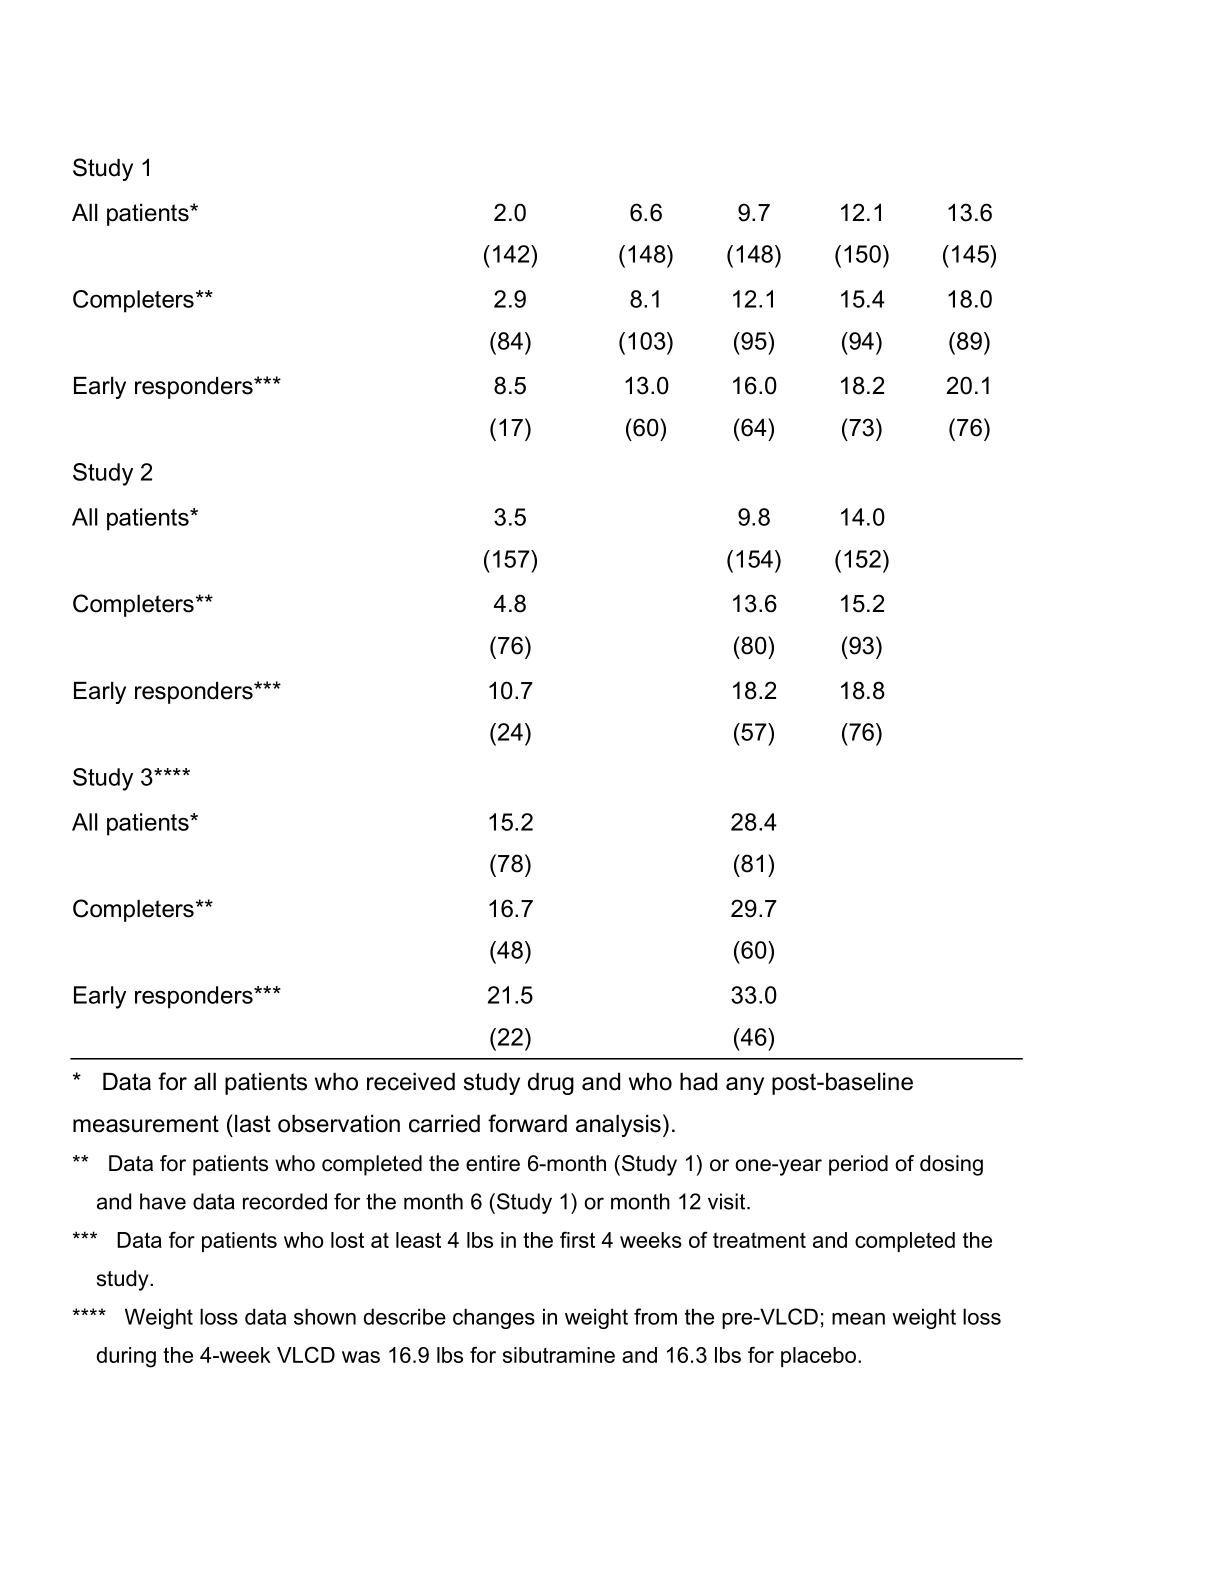nolines: (69, 152, 1002, 1054)
